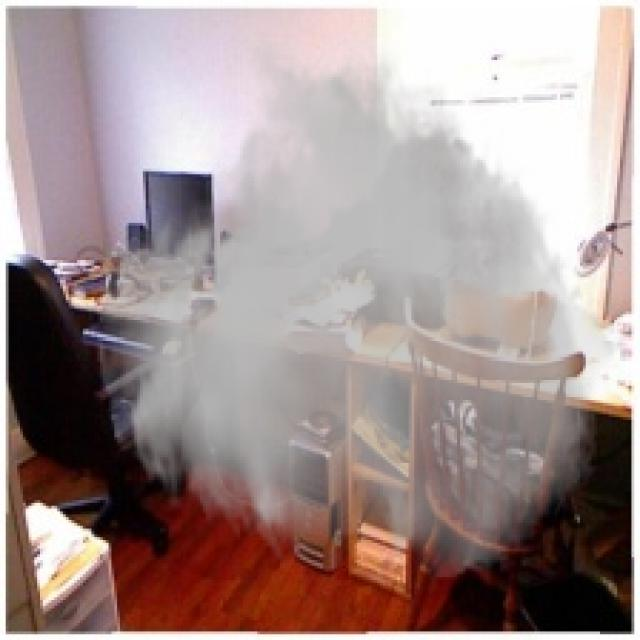smoke: (91, 34, 628, 583)
